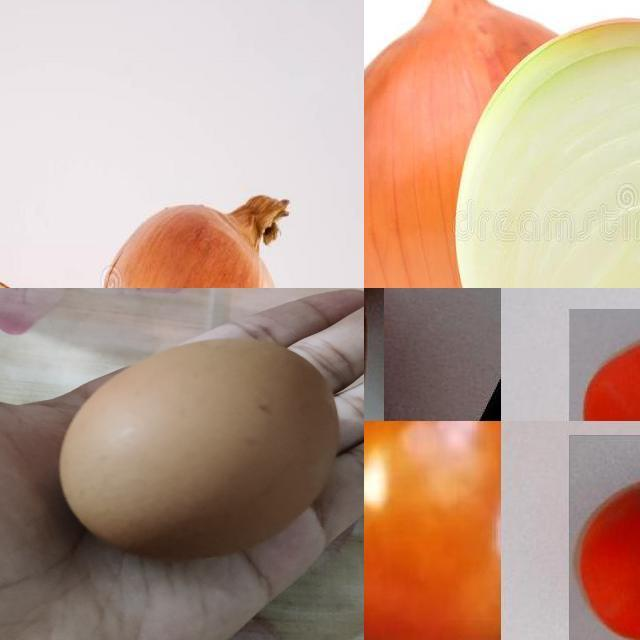egg: (58, 338, 347, 564)
onion: (365, 1, 608, 289), (456, 1, 640, 289), (98, 193, 291, 289)
tomato: (365, 422, 502, 640), (570, 436, 640, 640), (570, 309, 640, 422)
